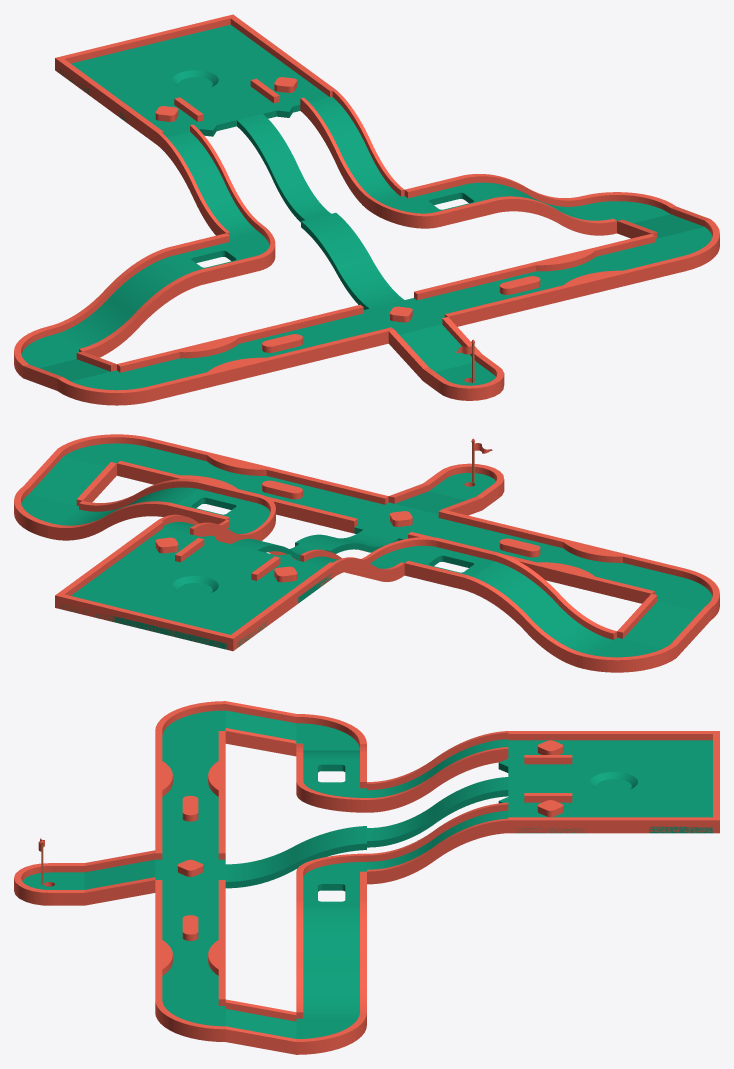
The model's file is Level6.fbx.
3 renders of one model, top to bottom at view 1: azimuth 30°, elevation 25°; view 2: azimuth 150°, elevation 25°; view 3: azimuth 270°, elevation 25°, orthographic. The views are drawn at different scales.
Visible parts, largest first — view 1: slope_smoothD_long (×4), side (×9), straight (×4), bend_open (×6), slope_straightA (×3), straight_narrowRound (×2), straight_obstacleRound (×2), straight_hole (×2), slope_center_smoothC_long, open (×2), slope_center_smoothD_long, end_roundHole (+3 smaller); view 2: side (×9), slope_smoothD_long (×4), bend_open (×6), straight (×4), slope_straightA (×3), straight_hole (×2), straight_narrowRound (×2), straight_obstacleRound (×2), open (×2), open_obstacle (×3), end_roundHole, open_dent (+3 smaller); view 3: side (×9), slope_smoothD_long (×4), bend_open (×6), slope_straightA (×3), straight (×4), straight_narrowRound (×2), straight_obstacleRound (×2), straight_hole (×2), open_obstacle (×3), slope_center_smoothC_long, open_diagonal (×2), open (×2) (+3 smaller).
Part boxes in pixels (left/top/right/bottom): slope_smoothD_long (×4): left=48, top=90, right=616, bottom=357; side (×9): left=55, top=14, right=335, bottom=145; straight (×4): left=117, top=233, right=685, bottom=401; bend_open (×6): left=14, top=192, right=719, bottom=405; slope_straightA (×3): left=23, top=206, right=710, bottom=390; straight_narrowRound (×2): left=177, top=248, right=626, bottom=386; straight_obstacleRound (×2): left=236, top=262, right=566, bottom=372; straight_hole (×2): left=167, top=175, right=498, bottom=284; slope_center_smoothC_long: left=301, top=212, right=403, bottom=309; open (×2): left=118, top=38, right=276, bottom=130; slope_center_smoothD_long: left=237, top=114, right=330, bottom=222; end_roundHole: left=423, top=354, right=504, bottom=400; side (×9): left=55, top=520, right=335, bottom=651; slope_smoothD_long (×4): left=48, top=478, right=616, bottom=668; bend_open (×6): left=14, top=434, right=719, bottom=672; straight (×4): left=117, top=438, right=685, bottom=603; slope_straightA (×3): left=23, top=449, right=710, bottom=657; straight_hole (×2): left=167, top=480, right=497, bottom=589; straight_narrowRound (×2): left=176, top=452, right=625, bottom=591; straight_obstacleRound (×2): left=246, top=467, right=566, bottom=569; open (×2): left=114, top=541, right=275, bottom=636; open_obstacle (×3): left=143, top=502, right=443, bottom=603; end_roundHole: left=423, top=463, right=504, bottom=509; open_dent: left=149, top=566, right=241, bottom=605; side (×9): left=508, top=731, right=719, bottom=833; slope_smoothD_long (×4): left=296, top=731, right=508, bottom=1018; bend_open (×6): left=155, top=701, right=366, bottom=1054; slope_straightA (×3): left=84, top=701, right=296, bottom=1054; straight (×4): left=155, top=731, right=225, bottom=1005; straight_narrowRound (×2): left=155, top=760, right=225, bottom=975; straight_obstacleRound (×2): left=155, top=790, right=225, bottom=946; straight_hole (×2): left=296, top=752, right=366, bottom=907; open_obstacle (×3): left=155, top=740, right=585, bottom=886; slope_center_smoothC_long: left=225, top=826, right=366, bottom=888; open_diagonal (×2): left=498, top=747, right=597, bottom=816; open (×2): left=508, top=767, right=712, bottom=796.
Bounding box in the file's own units: 110 × 18 × 100.
